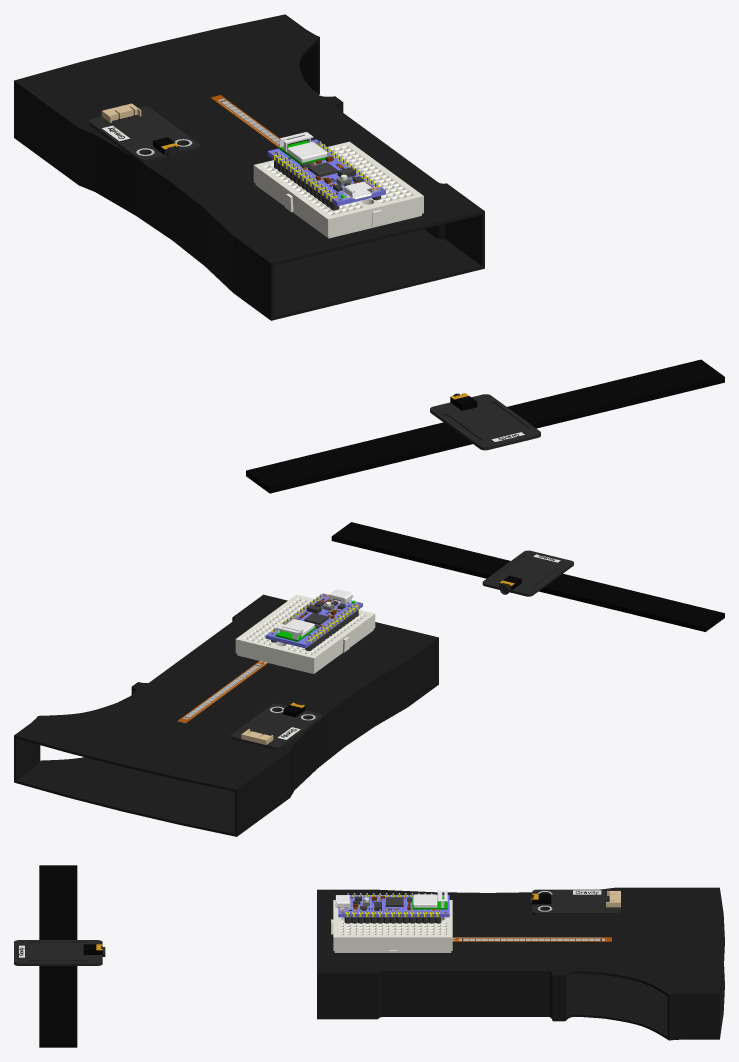
The model's file is CarpalSense.fbx.
3 renders of one model, top to bottom at view 1: azimuth 30°, elevation 25°; view 2: azimuth 150°, elevation 25°; view 3: azimuth 270°, elevation 25°, orthographic. The views are drawn at different scales.
Visible parts, largest first — view 1: Body1 (×5); view 2: Body1 (×6), Body5; view 3: Body1 (×6), Body4.
Part boxes in pixels (x1,y1,x2,y2): Body1 (×5): [14, 14, 724, 493]; Body1 (×6): [14, 522, 724, 836]; Body5: [305, 605, 358, 651]; Body1 (×6): [14, 865, 724, 1047]; Body4: [344, 909, 441, 923].
Bounding box in the file's own units: 166 × 36.16 × 281.
